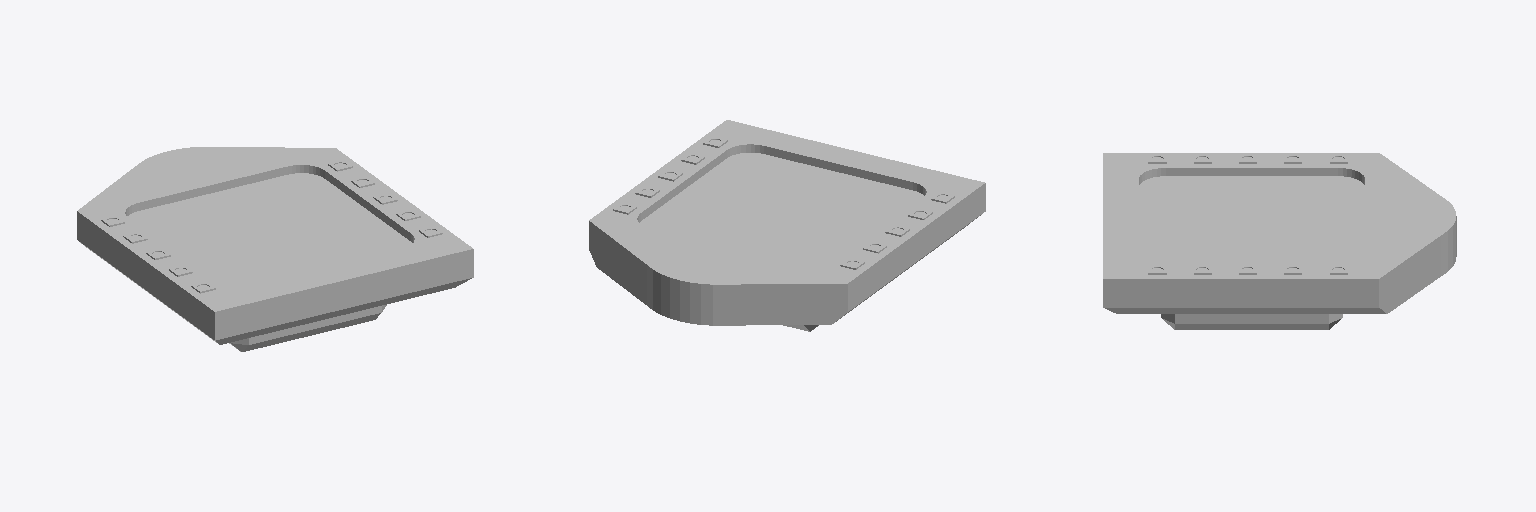
File: Displayer.obj
3 views of the same model, side by side, from view 1: azimuth 30°, elevation 25°; view 2: azimuth 150°, elevation 25°; view 3: azimuth 270°, elevation 25° (orthographic).
Parts seen in each view (by area): view 1: Displayer; view 2: Displayer; view 3: Displayer.
Boxes of the visible parts, x1,y1,x2,y2 form: Displayer: [77, 147, 473, 351]; Displayer: [589, 120, 985, 331]; Displayer: [1103, 153, 1456, 329].
Bounding box in the file's own units: 0.33 × 0.102 × 0.3899.